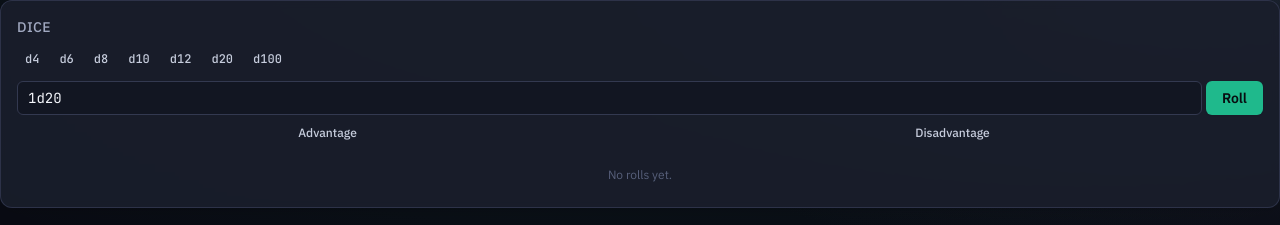
Test: DicePanel › quick buttons replace the default notation
Step 1. Click the button "d6" → (67, 59), box [51,45,82,73]
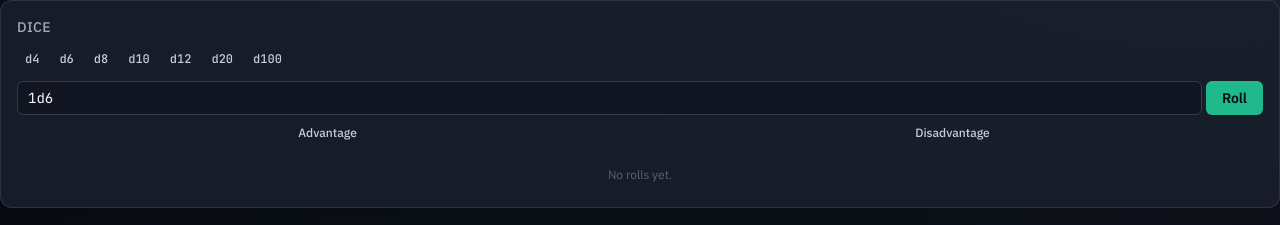
Result: the field with placeholder "e.g. 2d6+3" holds "1d6" at [17,81,1202,115]
